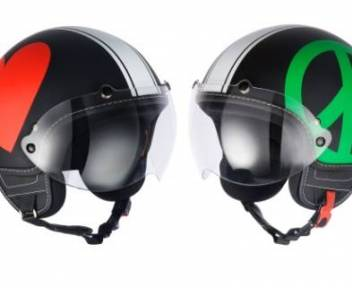helmet: (1, 29, 167, 224), (194, 16, 352, 216)
